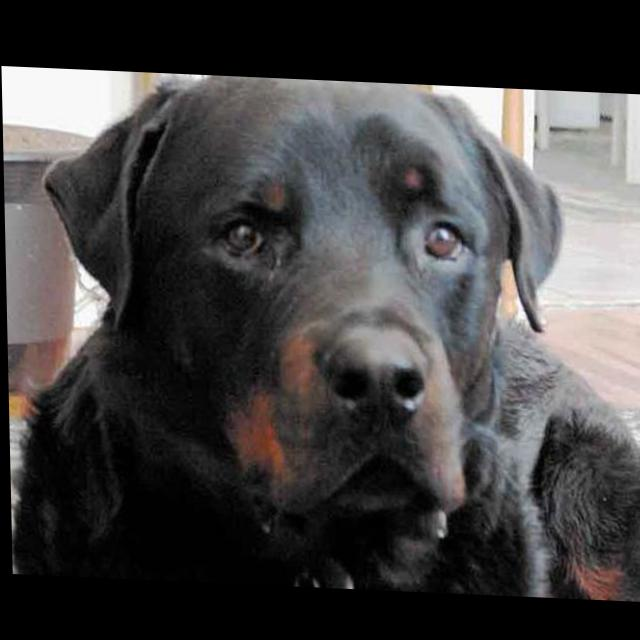rottweiler: (2, 67, 640, 597)
